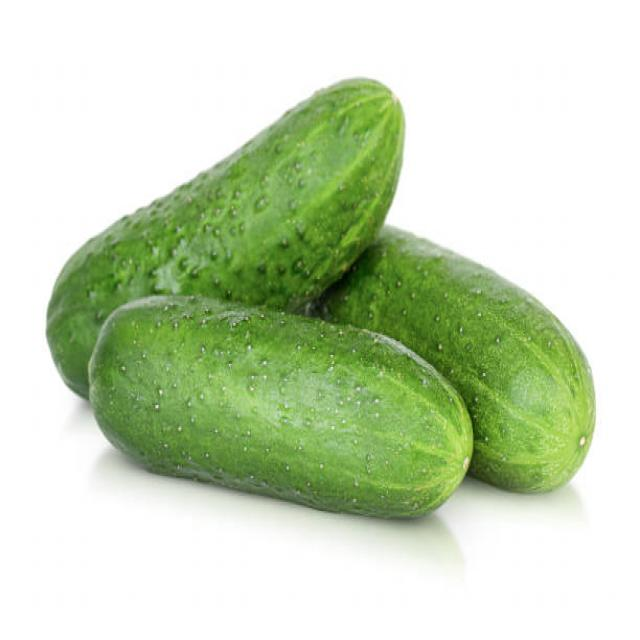Cucumber: (83, 292, 457, 518), (132, 69, 412, 288), (462, 255, 602, 501)
